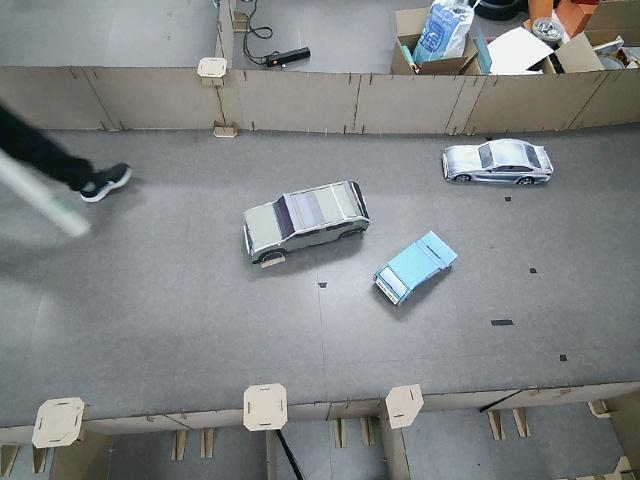car: (240, 179, 372, 268), (371, 229, 459, 309), (440, 138, 556, 189)
